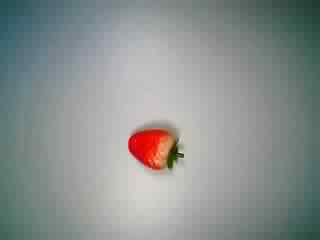strawberry: (123, 118, 189, 180)
